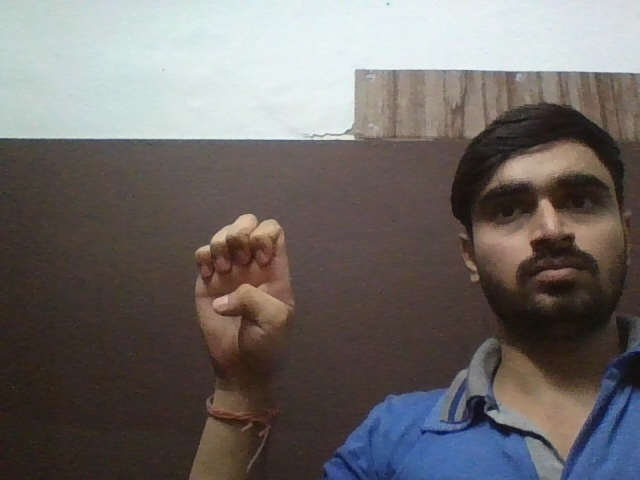E: (162, 201, 327, 361)
